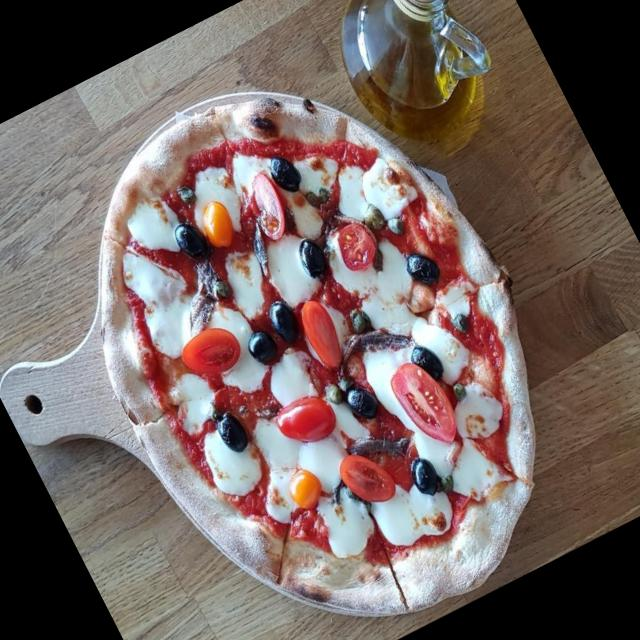black_olives: (170, 213, 222, 274), (209, 404, 257, 462), (260, 292, 308, 349), (288, 230, 334, 285), (264, 148, 310, 202), (240, 322, 286, 375), (401, 243, 448, 294), (404, 451, 448, 502), (405, 338, 449, 387), (342, 379, 386, 426)
pizza: (97, 93, 534, 620)
